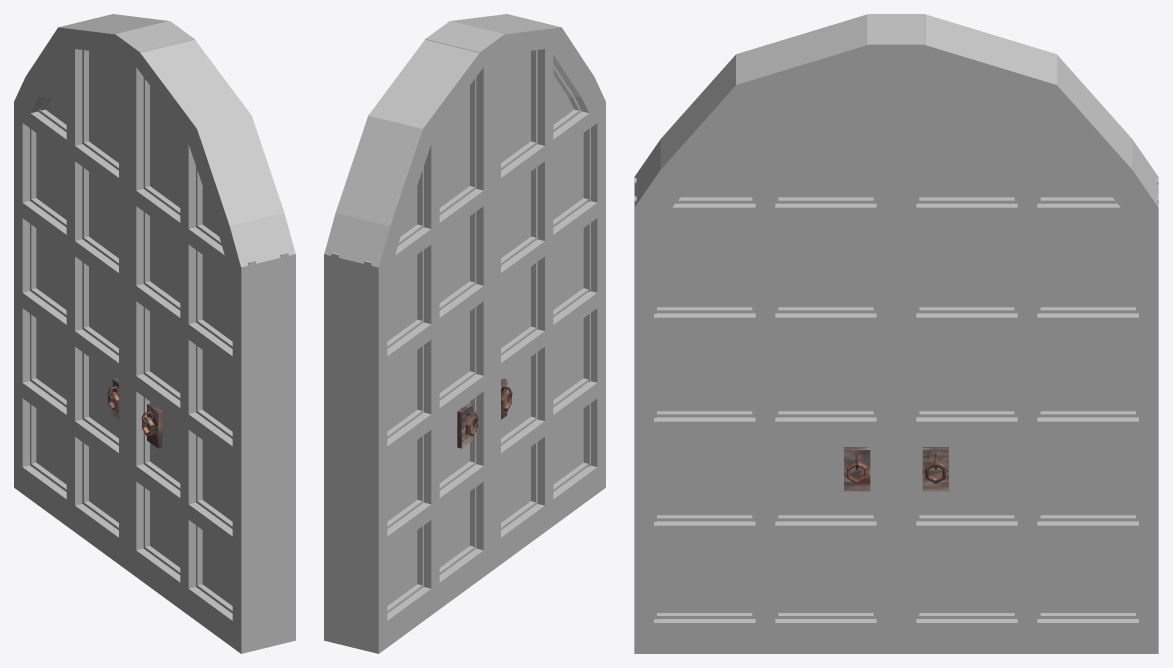
The model's file is castleDoorComplCombineJoin.fbx.
The picture shows the model from 3 angles, left to right: view 1: azimuth 30°, elevation 25°; view 2: azimuth 150°, elevation 25°; view 3: azimuth 270°, elevation 25°; orthographic projection. The views are drawn at different scales.
Parts seen in each view (by area): view 1: Cube.032; view 2: Cube.032; view 3: Cube.032.
Boxes of the visible parts, x1,y1,x2,y2 form: Cube.032: (14, 14, 295, 653); Cube.032: (324, 14, 605, 653); Cube.032: (634, 14, 1158, 653).
Size of the model in its own units: 124 by 1025 by 800.
